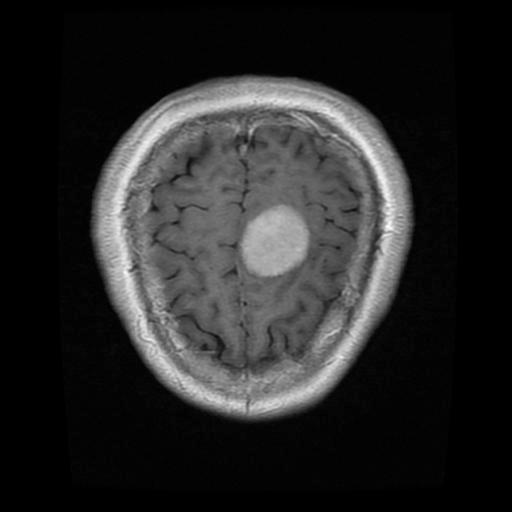Tumour-Meningioma: (199, 176, 369, 303)
